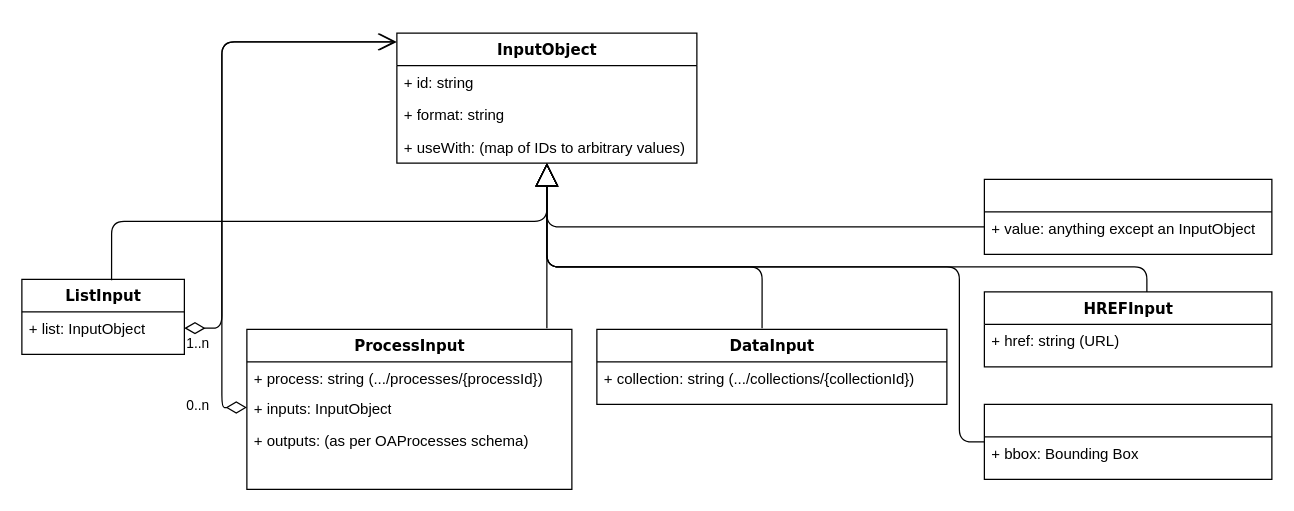
The diagram is 1294 pixels wide and 511 high, and some of its shapes have lost their labels. Each missing label, with the box of its shape:
BBOXInput: (983, 403, 1272, 479)
ValueInput: (983, 178, 1272, 254)
